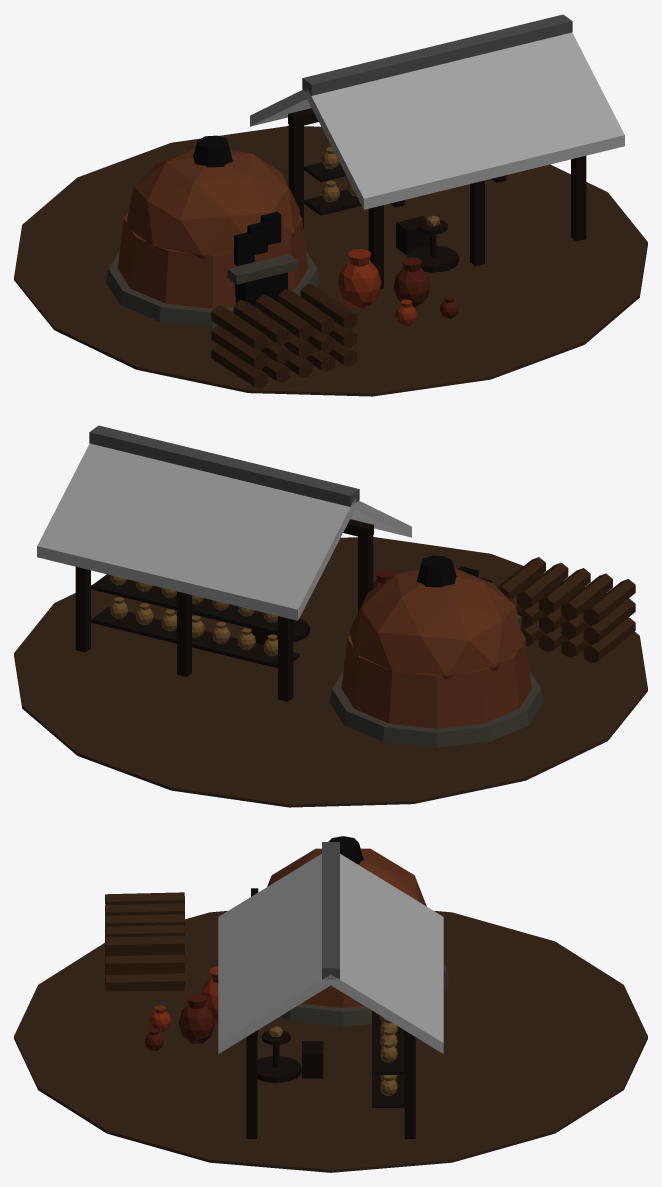
The model's file is kiln.fbx.
The picture shows the model from 3 angles, top to bottom: view 1: azimuth 30°, elevation 25°; view 2: azimuth 150°, elevation 25°; view 3: azimuth 270°, elevation 25°; orthographic projection.
Parts seen in each view (by area): view 1: kiln; view 2: kiln; view 3: kiln.
Boxes of the visible parts, x1,y1,x2,y2 form: kiln: (14,14,647,396); kiln: (14,425,647,807); kiln: (14,836,647,1172).
Size of the model in its own units: 10.4 by 3.35 by 10.4.
